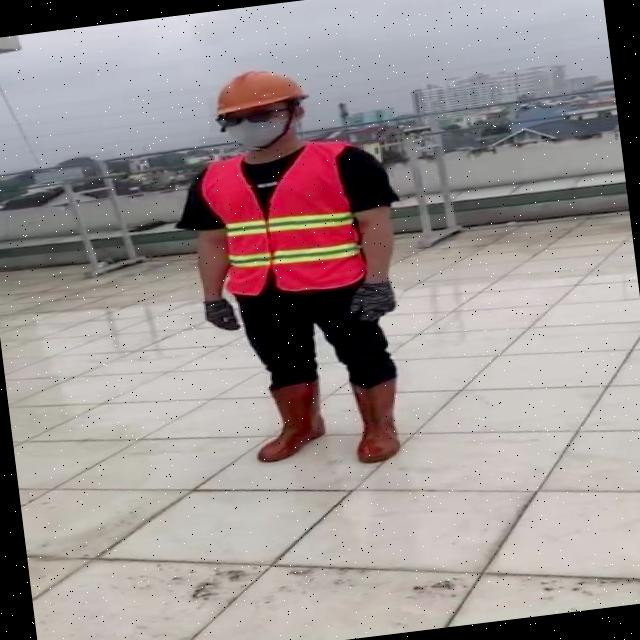boots: (247, 377, 331, 464), (345, 374, 412, 464)
helmet: (200, 60, 312, 116)
vest: (195, 136, 368, 301)
